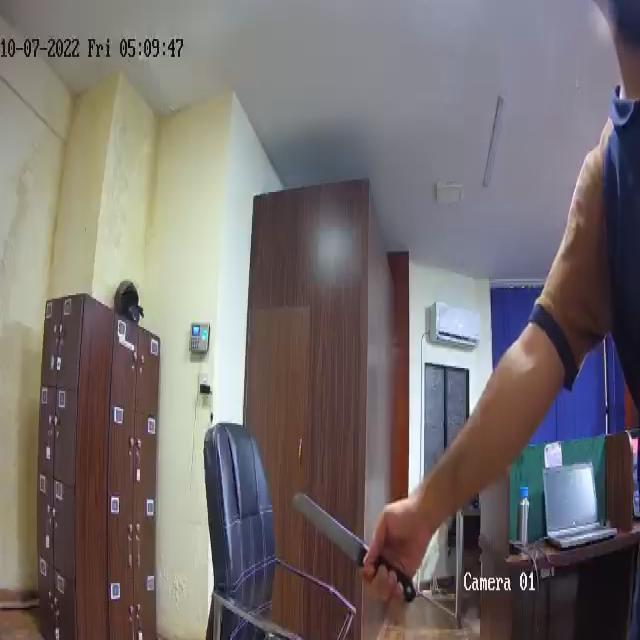Knife: (290, 487, 418, 624)
